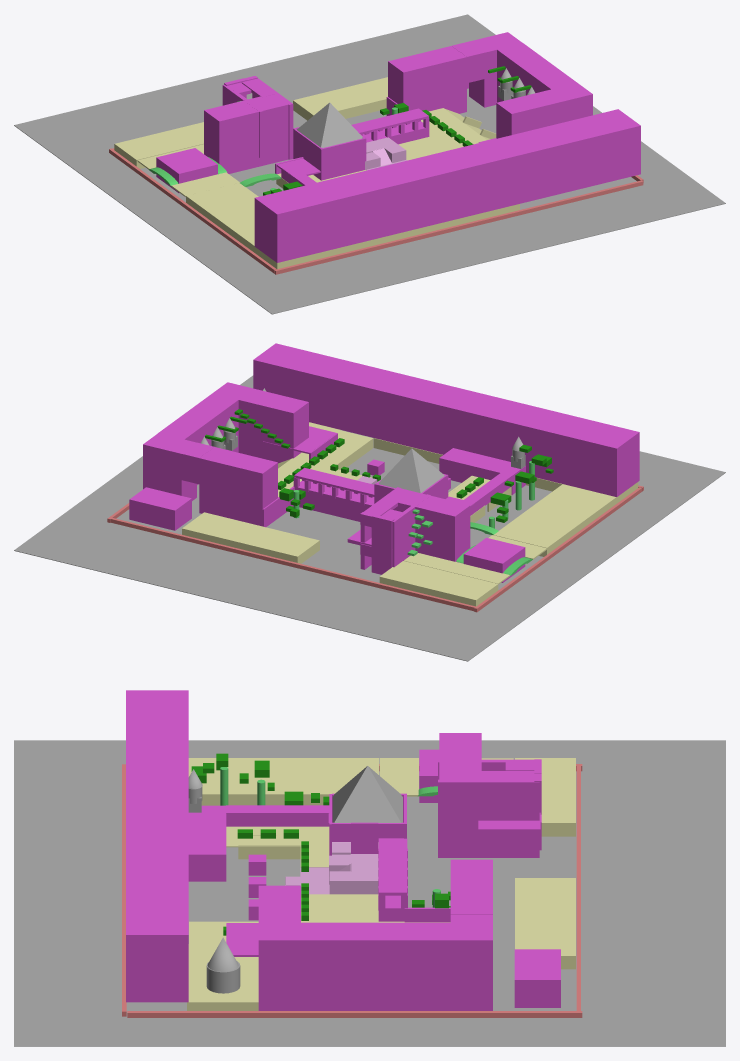
The model's file is tiMedusaLevel1.fbx.
The picture shows the model from 3 angles, top to bottom: view 1: azimuth 30°, elevation 25°; view 2: azimuth 150°, elevation 25°; view 3: azimuth 270°, elevation 25°; orthographic projection. The views are drawn at different scales.
Visible parts, largest first — view 1: pCube1, pasted__pasted__pasted__pasted__polySurface67, pasted__pasted__pasted__pasted__pasted__polySurface12 (×4), pasted__pasted__pasted__pasted__pasted__polySurface39, pasted__pasted__pasted__pasted__pasted__polySurface37, pasted__pasted__pasted__pasted__polySurface12 (×2), pasted__pasted__polySurface36, pasted__pasted__polySurface12 (×3), pasted__pasted__pasted__polySurface36 (×2), pasted__pasted__pasted__polySurface39, pasted__pasted__pasted__polySurface40, pPyramid1 (+5 smaller); view 2: pCube1, pasted__pasted__pasted__pasted__polySurface67, pasted__pasted__pasted__pasted__pasted__polySurface12 (×4), pasted__pasted__pasted__pasted__polySurface12 (×3), pasted__pasted__pasted__pasted__pasted__polySurface37, pasted__pasted__polySurface36, pasted__pasted__pasted__polySurface39, pasted__pasted__pasted__pasted__pasted__polySurface39, pasted__pasted__pasted__polySurface40, pasted__pasted__pasted__polySurface36 (×2), pasted__pasted__pasted__pasted__polySurface66, pPyramid1 (+9 smaller); view 3: pCube1, pasted__pasted__pasted__pasted__pasted__polySurface12 (×3), pasted__pasted__pasted__pasted__polySurface67, pasted__pasted__polySurface36 (×2), pasted__pasted__pasted__pasted__pasted__polySurface40, pasted__pasted__pasted__pasted__polySurface12 (×4), pasted__pasted__pasted__polySurface12 (×2), pasted__pasted__pasted__polySurface39, pPyramid1, pasted__pasted__pasted__polySurface40, pasted__pasted__pasted__pasted__polySurface66, pasted__pasted__pasted__polySurface36 (×2) (+16 smaller).
Part boxes in pixels (box(x1,y1,x2,y2)): pCube1: box(14, 14, 725, 314); pasted__pasted__pasted__pasted__polySurface67: box(254, 109, 640, 262); pasted__pasted__pasted__pasted__pasted__polySurface12 (×4): box(109, 32, 592, 273); pasted__pasted__pasted__pasted__pasted__polySurface39: box(204, 93, 288, 173); pasted__pasted__pasted__pasted__pasted__polySurface37: box(388, 46, 466, 113); pasted__pasted__pasted__pasted__polySurface12 (×2): box(156, 148, 643, 274); pasted__pasted__polySurface36: box(186, 183, 330, 269); pasted__pasted__polySurface12 (×3): box(294, 121, 429, 180); pasted__pasted__pasted__polySurface36 (×2): box(331, 108, 519, 255); pasted__pasted__pasted__polySurface39: box(293, 77, 387, 120); pasted__pasted__pasted__polySurface40: box(114, 122, 203, 168); pPyramid1: box(297, 102, 362, 147); pCube1: box(14, 375, 725, 661); pasted__pasted__pasted__pasted__polySurface67: box(253, 343, 639, 496); pasted__pasted__pasted__pasted__pasted__polySurface12 (×4): box(143, 382, 641, 612); pasted__pasted__pasted__pasted__polySurface12 (×3): box(110, 448, 525, 611); pasted__pasted__pasted__pasted__pasted__polySurface37: box(199, 447, 277, 526); pasted__pasted__polySurface36: box(493, 482, 638, 556); pasted__pasted__pasted__polySurface39: box(182, 512, 319, 563); pasted__pasted__pasted__pasted__pasted__polySurface39: box(386, 488, 470, 562); pasted__pasted__pasted__polySurface40: box(379, 561, 498, 606); pasted__pasted__pasted__polySurface36 (×2): box(278, 429, 566, 496); pasted__pasted__pasted__pasted__polySurface66: box(129, 487, 191, 530); pPyramid1: box(379, 448, 444, 492); pCube1: box(14, 740, 725, 1046); pasted__pasted__pasted__pasted__pasted__polySurface12 (×3): box(258, 885, 492, 1010); pasted__pasted__pasted__pasted__polySurface67: box(126, 690, 188, 1002); pasted__pasted__polySurface36 (×2): box(187, 758, 379, 1010); pasted__pasted__pasted__pasted__pasted__polySurface40: box(438, 779, 539, 857); pasted__pasted__pasted__pasted__polySurface12 (×4): box(122, 749, 580, 1016); pasted__pasted__pasted__polySurface12 (×2): box(127, 838, 582, 1017); pasted__pasted__pasted__polySurface39: box(515, 878, 575, 969); pPyramid1: box(332, 766, 402, 822); pasted__pasted__pasted__polySurface40: box(515, 758, 575, 836); pasted__pasted__pasted__pasted__polySurface66: box(514, 949, 560, 1007); pasted__pasted__pasted__polySurface36 (×2): box(189, 826, 450, 948).
Size of the model in its own units: 116 by 18.95 by 114.
